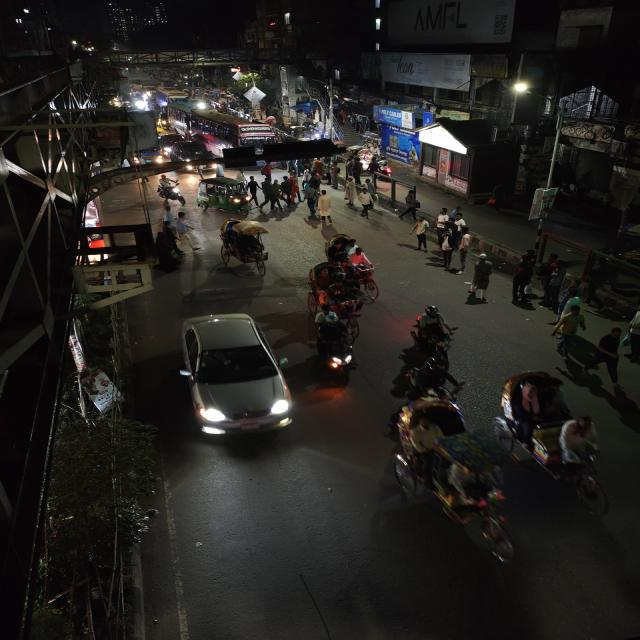bus: (175, 108, 278, 150)
car: (172, 309, 295, 447), (168, 140, 224, 170)
cng: (194, 175, 254, 218)
motorcycle: (401, 302, 454, 370), (306, 316, 361, 379), (398, 359, 462, 406), (153, 173, 188, 209)
pedestrian: (587, 324, 629, 390), (548, 304, 589, 352), (524, 264, 563, 311), (465, 256, 498, 303), (157, 218, 186, 262), (510, 257, 536, 304), (451, 231, 479, 273), (442, 228, 468, 273), (437, 228, 460, 266), (260, 179, 284, 215), (409, 217, 433, 252), (356, 187, 379, 221), (316, 189, 336, 228), (300, 179, 320, 215), (280, 173, 301, 207), (344, 157, 366, 189), (398, 194, 423, 222), (247, 177, 266, 209), (403, 184, 422, 214), (341, 178, 358, 208), (448, 206, 466, 228), (435, 207, 452, 230), (329, 165, 344, 190)
pickup_van: (134, 146, 164, 166)
rickshaw: (384, 395, 523, 567), (490, 366, 619, 510), (214, 217, 278, 277), (303, 261, 363, 325), (329, 242, 387, 302)
